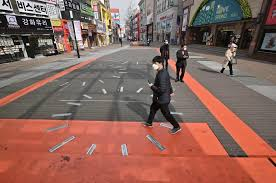mask: (152, 56, 164, 72), (181, 43, 187, 51), (162, 38, 168, 44)
